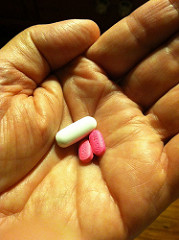palm: (5, 82, 151, 222)
